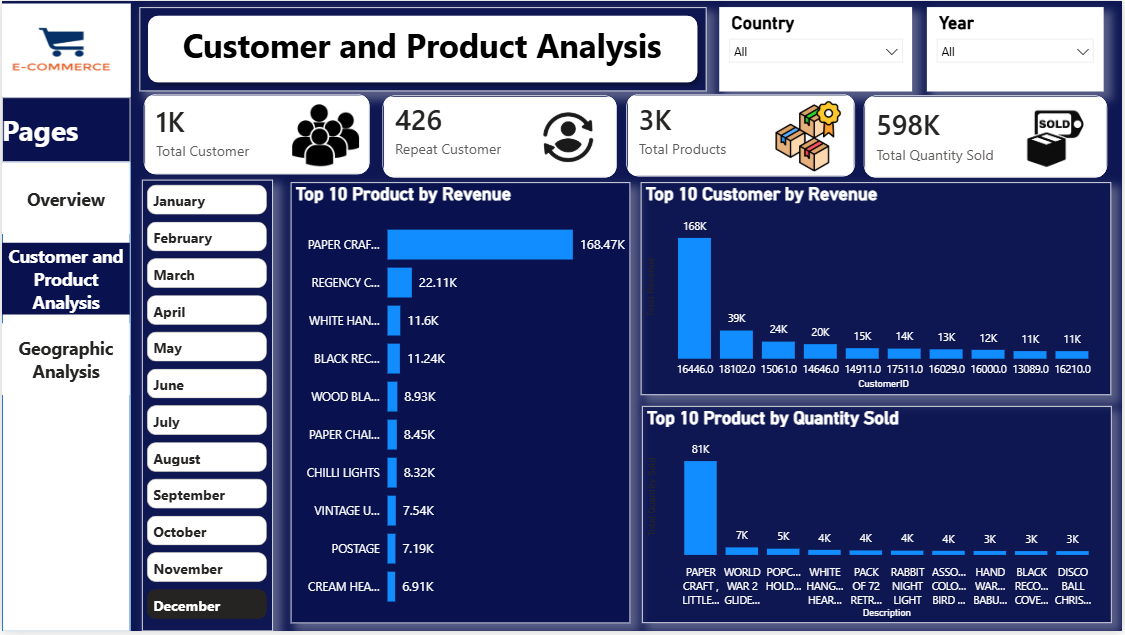

What the dashboard file says about the page in this screenshot:
{"tool":"powerbi","page":{"name":"Customer and Product Analysis","canvas":[1280,720],"ordinal":1},"visuals":[{"type":"image","box":[0,2.7,146.8,107],"z":0},{"type":"shape","box":[157.8,6.9,647.7,96.1],"z":1000},{"type":"advancedSlicerVisual","fields":{"Values":["Custome Calender 1.Date.Variation.Date Hierarchy.Month"]},"box":[160.5,204.5,149.6,516],"z":2000},{"type":"textbox","box":[201.7,20.6,585.9,72.7],"z":3000},{"type":"slicer","fields":{"Values":["Cleaned E-Commerse Data.Country"]},"box":[820,7.1,220,95.7],"z":4000},{"type":"slicer","fields":{"Values":["Custome Calender 1.Date.Variation.Date Hierarchy.Year"]},"box":[1057.1,7.1,201.4,95.7],"z":5000},{"type":"shape","box":[0,183.9,146.8,536.5],"z":6000},{"type":"shape","box":[0,109.8,146.8,74.1],"z":7000},{"type":"pageNavigator","box":[0,183.9,146.8,266.2],"z":8000},{"type":"cardVisual","fields":{"Data":["Cleaned E-Commerse Data.Total Quantity Sold"]},"box":[979.8,102.9,288.2,104.3],"z":9000},{"type":"clusteredBarChart","title":"Top 10 Product by Revenue","fields":{"Y":["Cleaned E-Commerse Data.Total Revenue"],"Category":["Cleaned E-Commerse Data.Description"]},"box":[329.3,207.2,388.3,503.6],"z":10000},{"type":"clusteredColumnChart","title":"Top 10 Product by Quantity Sold","fields":{"Category":["Cleaned E-Commerse Data.Description"],"Y":["Cleaned E-Commerse Data.Total Quantity Sold"]},"box":[731.4,462.4,536.5,248.4],"z":11000},{"type":"cardVisual","fields":{"Data":["Cleaned E-Commerse Data.Total Products"]},"box":[708.1,101.5,271.7,104.3],"z":12000},{"type":"clusteredColumnChart","title":"Top 10 Customer by Revenue","fields":{"Category":["Cleaned E-Commerse Data.CustomerID"],"Y":["Cleaned E-Commerse Data.Total Revenue"]},"box":[730,207.2,537.9,242.9],"z":13000},{"type":"cardVisual","fields":{"Data":["Cleaned E-Commerse Data.Repeat Customer"]},"box":[429.5,102.9,278.6,104.3],"z":14000},{"type":"cardVisual","fields":{"Data":["Cleaned E-Commerse Data.Total Customer"]},"box":[157.8,101.5,269,102.9],"z":15000}]}

Visuals, with their boxes in screenshot pixels (x1, y1, x2, y2), scaled from the page's 1280x720 canvas onto the 1125x635 screenshot:
image: Rect(0, 2, 129, 97)
shape: Rect(139, 6, 708, 91)
advancedSlicerVisual - Custome Calender 1.Date.Variation.Date Hierarchy.Month: Rect(141, 180, 273, 634)
textbox: Rect(177, 18, 692, 82)
slicer - Cleaned E-Commerse Data.Country: Rect(721, 6, 914, 91)
slicer - Custome Calender 1.Date.Variation.Date Hierarchy.Year: Rect(929, 6, 1106, 91)
shape: Rect(0, 162, 129, 634)
shape: Rect(0, 97, 129, 162)
pageNavigator: Rect(0, 162, 129, 397)
cardVisual - Cleaned E-Commerse Data.Total Quantity Sold: Rect(861, 91, 1114, 183)
"Top 10 Product by Revenue" clusteredBarChart: Rect(289, 183, 631, 627)
"Top 10 Product by Quantity Sold" clusteredColumnChart: Rect(643, 408, 1114, 627)
cardVisual - Cleaned E-Commerse Data.Total Products: Rect(622, 90, 861, 182)
"Top 10 Customer by Revenue" clusteredColumnChart: Rect(642, 183, 1114, 397)
cardVisual - Cleaned E-Commerse Data.Repeat Customer: Rect(377, 91, 622, 183)
cardVisual - Cleaned E-Commerse Data.Total Customer: Rect(139, 90, 375, 180)
